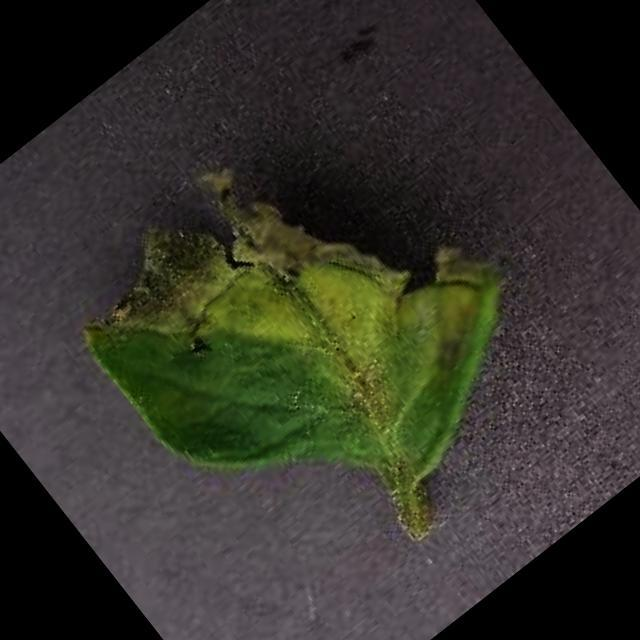Tomato late blight leaf: (43, 56, 583, 595)
